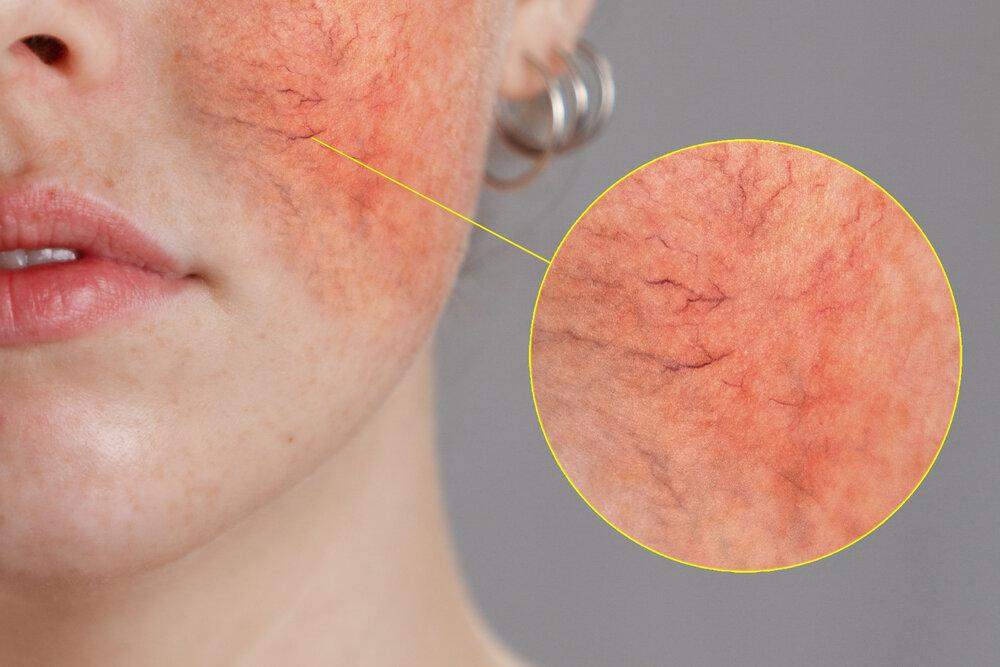Skin-Redness: (533, 139, 963, 575), (177, 0, 479, 302)
